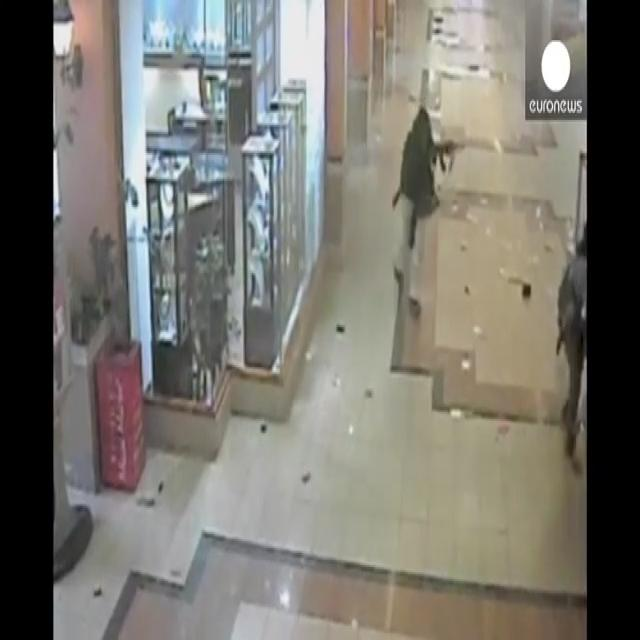Weapon: (426, 133, 470, 182)
